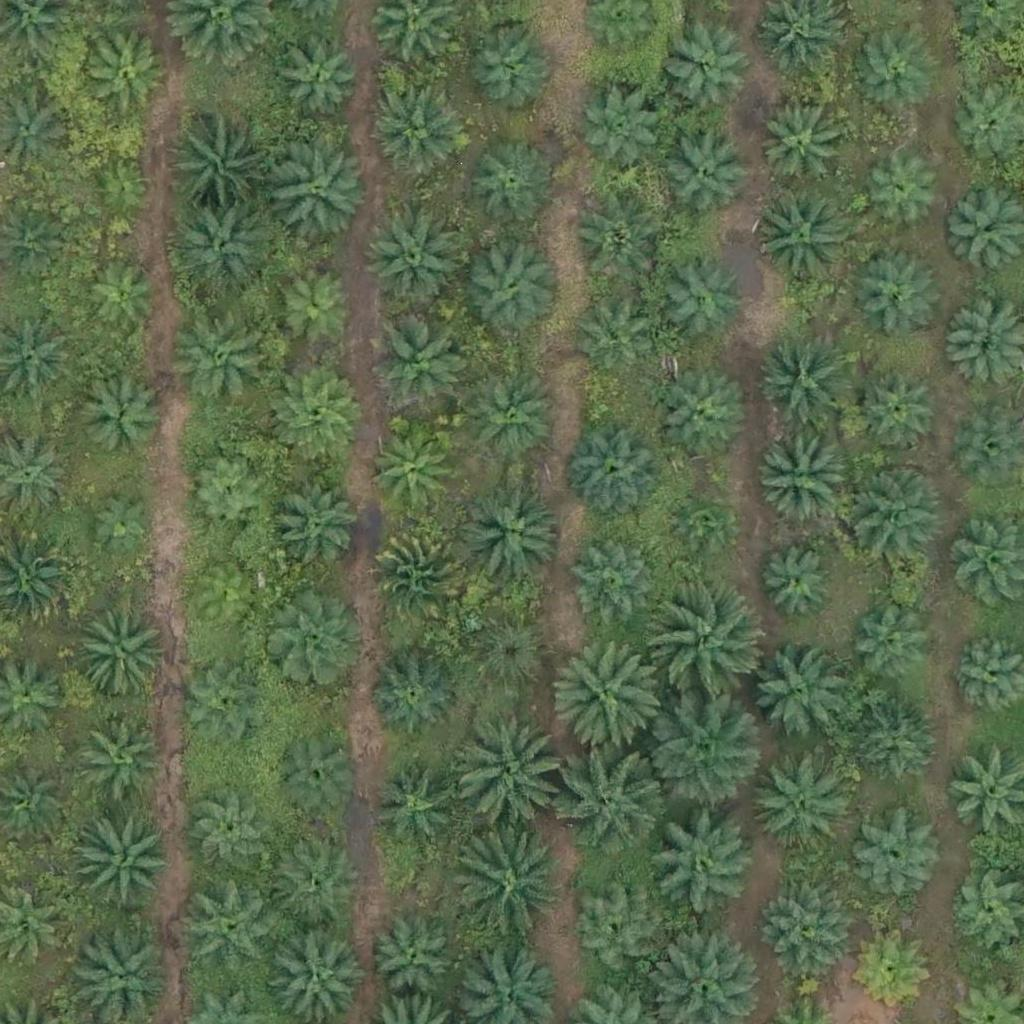Kelapa_Sawit: (451, 719, 564, 833), (646, 696, 759, 809), (647, 806, 760, 919), (557, 742, 670, 855), (553, 638, 666, 751), (447, 833, 560, 946), (653, 586, 765, 700), (840, 462, 940, 563), (749, 750, 849, 851), (567, 422, 667, 523), (459, 479, 559, 580), (176, 199, 276, 300), (172, 313, 272, 414), (269, 360, 369, 461), (272, 136, 372, 237), (368, 308, 468, 409), (371, 82, 471, 183), (461, 231, 561, 332), (459, 364, 559, 465), (753, 190, 853, 291), (756, 330, 856, 431), (754, 429, 854, 529), (748, 645, 848, 745), (263, 591, 363, 691), (372, 526, 472, 626), (184, 880, 284, 980), (73, 599, 173, 699), (73, 808, 173, 908), (363, 210, 463, 310), (849, 595, 937, 683), (461, 612, 549, 700), (273, 728, 361, 816), (366, 758, 454, 846), (570, 543, 658, 631), (366, 428, 454, 516), (371, 651, 459, 739), (371, 908, 459, 996), (187, 790, 275, 878), (82, 29, 170, 117), (466, 22, 554, 110), (467, 142, 555, 230), (581, 86, 669, 174), (574, 200, 662, 288), (659, 29, 747, 117), (663, 130, 751, 218), (655, 259, 743, 347), (184, 449, 272, 537), (273, 37, 360, 126), (852, 700, 939, 788), (762, 880, 849, 968), (849, 811, 936, 899), (574, 889, 661, 977), (266, 479, 353, 567), (272, 837, 359, 925), (180, 661, 267, 749), (82, 709, 169, 797), (77, 373, 164, 461), (175, 135, 262, 223), (176, 562, 263, 650), (274, 259, 361, 347), (572, 295, 659, 383), (662, 375, 749, 463), (760, 103, 847, 191), (855, 367, 942, 455), (855, 249, 942, 337), (862, 145, 949, 233), (850, 22, 937, 110), (759, 545, 834, 621), (87, 151, 162, 227), (84, 254, 159, 330), (85, 486, 160, 561), (858, 932, 933, 1007), (670, 489, 732, 552)
